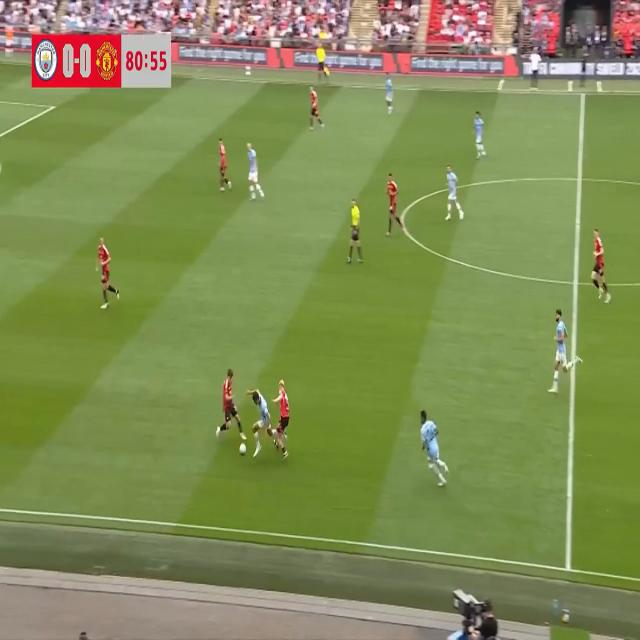ball: (238, 438, 248, 460)
players: (415, 404, 451, 489), (546, 305, 578, 397), (245, 388, 283, 462), (94, 231, 125, 320), (214, 364, 248, 442), (586, 225, 613, 313), (272, 377, 296, 463), (212, 131, 237, 202), (245, 136, 268, 206), (387, 158, 406, 242), (305, 75, 327, 135), (443, 162, 465, 221), (469, 106, 490, 161), (380, 62, 394, 124)
refree: (347, 190, 367, 278), (312, 32, 329, 85)
